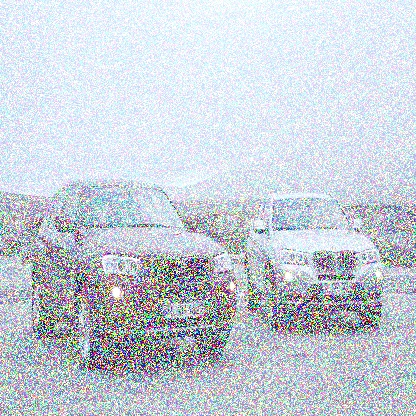Vehicle: (29, 174, 240, 374)
